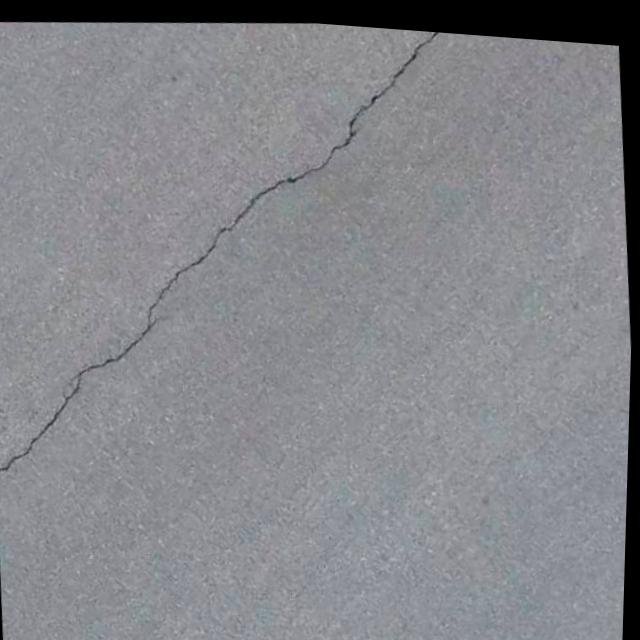Crack: (0, 0, 479, 518)
